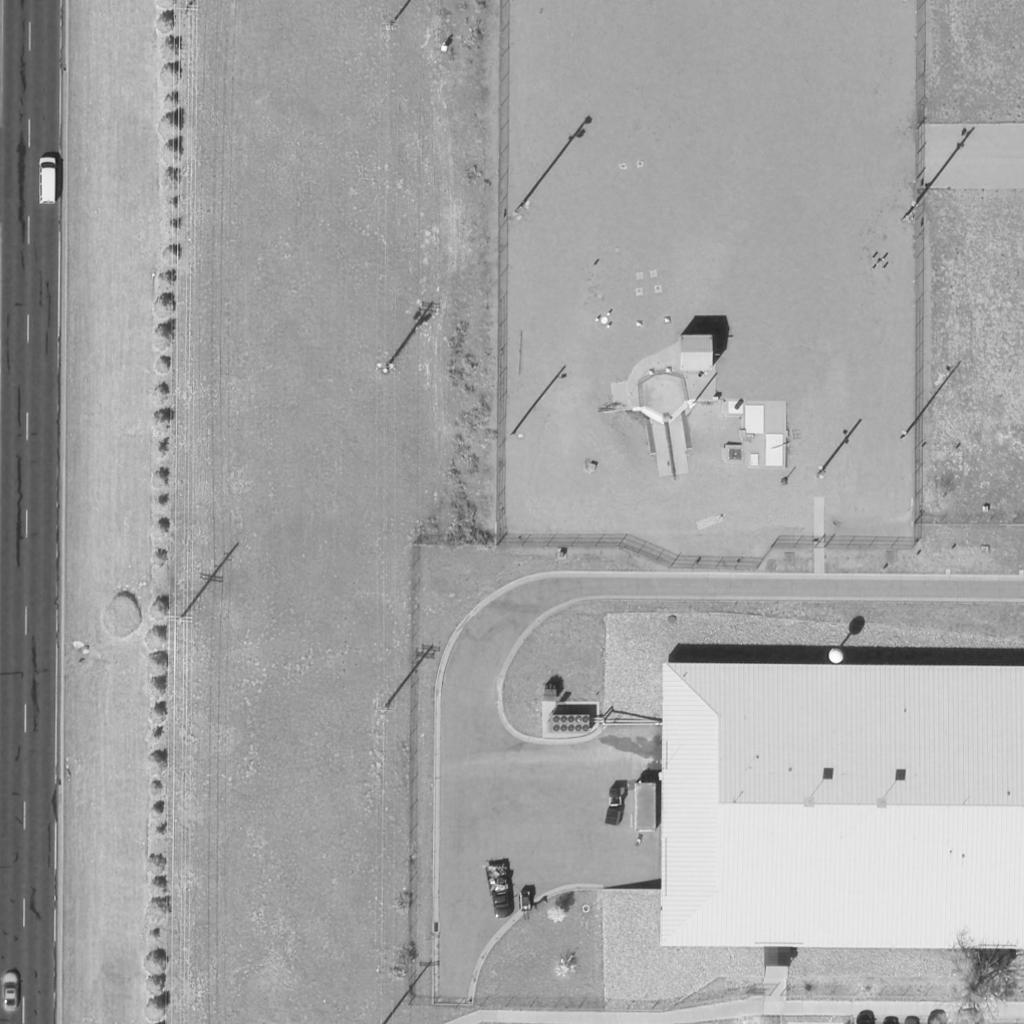vehicle: (484, 860, 516, 920), (0, 967, 24, 1015), (37, 156, 57, 206)
